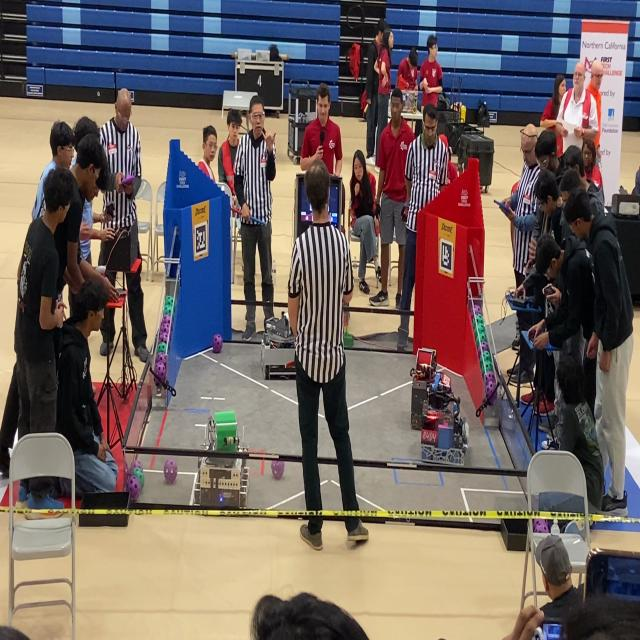artifact_green: (132, 468, 144, 488), (472, 319, 485, 335), (483, 352, 493, 371), (164, 296, 174, 313), (473, 316, 485, 329), (474, 326, 481, 347), (474, 324, 485, 335), (157, 342, 167, 353), (478, 329, 486, 342), (480, 359, 486, 376), (164, 303, 173, 314), (165, 296, 173, 306), (164, 307, 172, 314), (166, 296, 173, 302)
artifact_purple: (485, 371, 497, 404), (163, 458, 178, 484), (126, 475, 141, 501), (271, 460, 284, 479), (128, 459, 144, 474), (533, 519, 549, 533), (155, 363, 166, 381), (478, 342, 489, 360), (212, 334, 222, 353), (159, 324, 170, 341), (156, 353, 167, 366), (159, 328, 169, 342), (123, 462, 129, 485), (155, 354, 162, 367), (161, 315, 171, 324), (474, 305, 482, 316), (162, 314, 171, 323), (481, 342, 490, 351), (161, 321, 170, 328)
